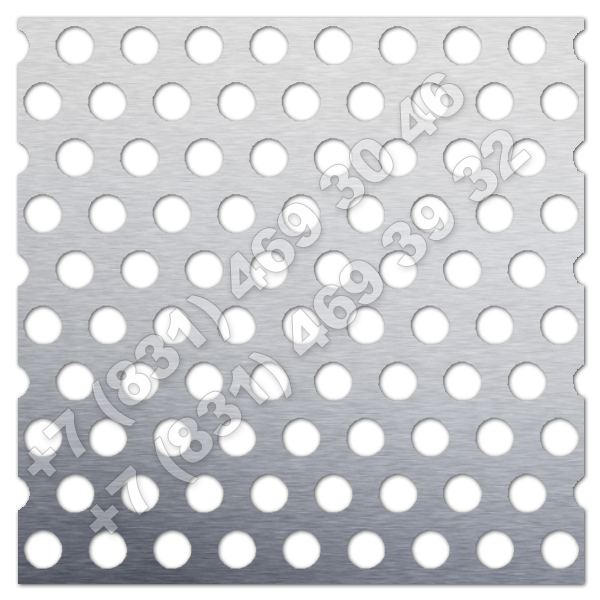Hole: (51, 21, 101, 72), (148, 77, 199, 126), (407, 527, 457, 576), (84, 77, 135, 125), (245, 21, 292, 73), (243, 133, 295, 180), (473, 526, 521, 576), (535, 524, 582, 575), (150, 527, 199, 575), (276, 78, 326, 125), (277, 414, 326, 461), (116, 21, 163, 69), (310, 22, 358, 69), (407, 413, 455, 460), (437, 22, 486, 68), (212, 77, 261, 123), (343, 524, 389, 573), (535, 189, 582, 236), (20, 301, 67, 348), (439, 358, 486, 405), (181, 133, 227, 181), (214, 524, 258, 574), (55, 132, 98, 183), (504, 21, 550, 68), (20, 79, 67, 125), (213, 190, 260, 236), (52, 247, 99, 293), (470, 192, 520, 235), (536, 78, 582, 124), (151, 190, 197, 236), (505, 247, 551, 293), (180, 21, 225, 68), (343, 77, 388, 124), (86, 528, 130, 576), (376, 356, 420, 404), (503, 359, 551, 403), (378, 21, 423, 67), (311, 470, 357, 515), (246, 471, 291, 517), (440, 470, 486, 515), (471, 415, 517, 460), (536, 414, 582, 459), (471, 79, 518, 123), (118, 133, 162, 180), (83, 302, 130, 346), (83, 190, 131, 233), (21, 191, 67, 235), (408, 302, 454, 346), (376, 470, 419, 517), (311, 359, 355, 404), (343, 414, 386, 460), (506, 469, 549, 515), (22, 527, 64, 574), (281, 523, 323, 570), (183, 248, 227, 292), (51, 360, 95, 403), (440, 247, 485, 289), (473, 302, 514, 348), (539, 302, 581, 346), (118, 248, 163, 289), (54, 472, 95, 516)
